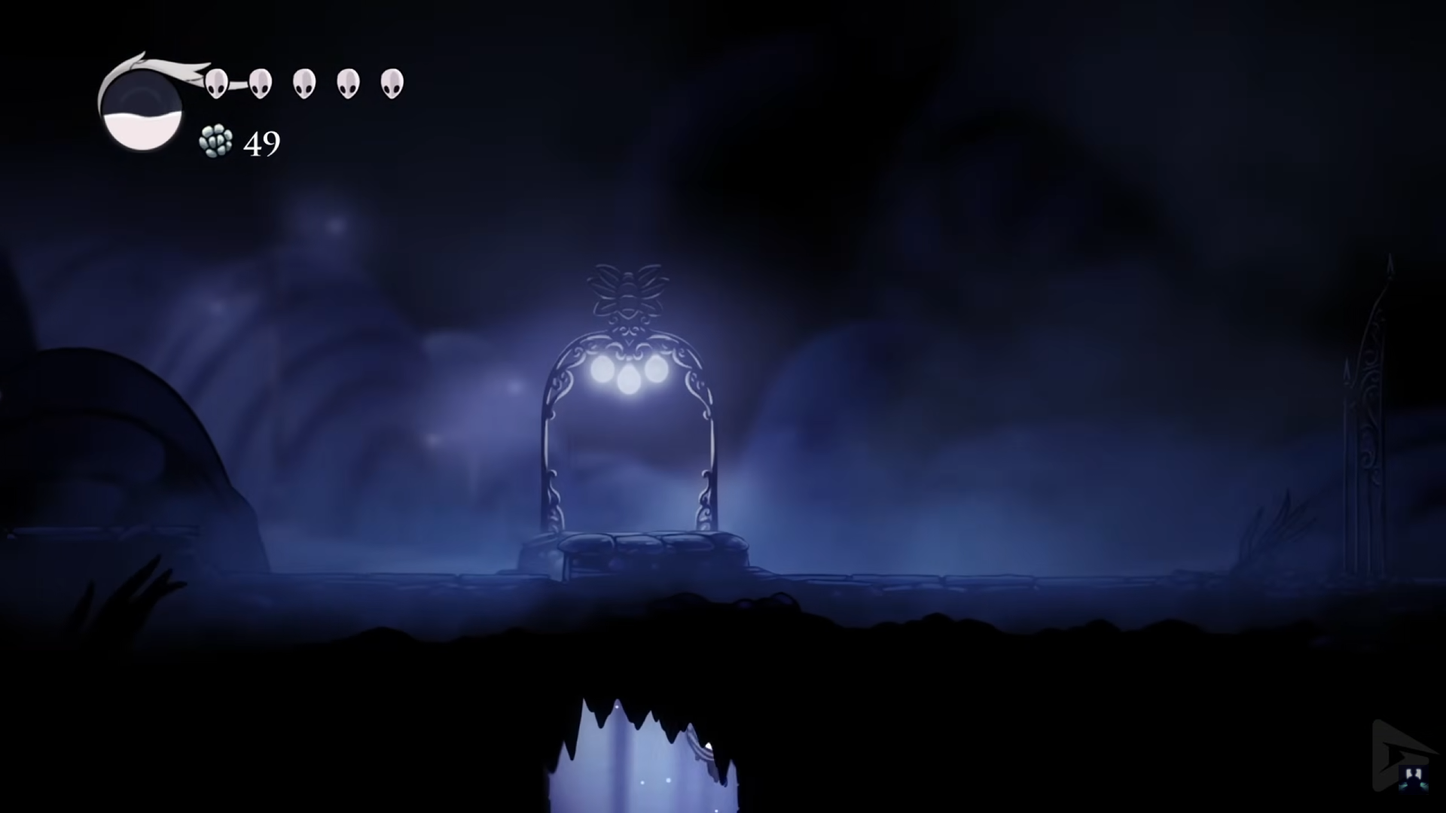HK: (692, 729, 727, 782)
